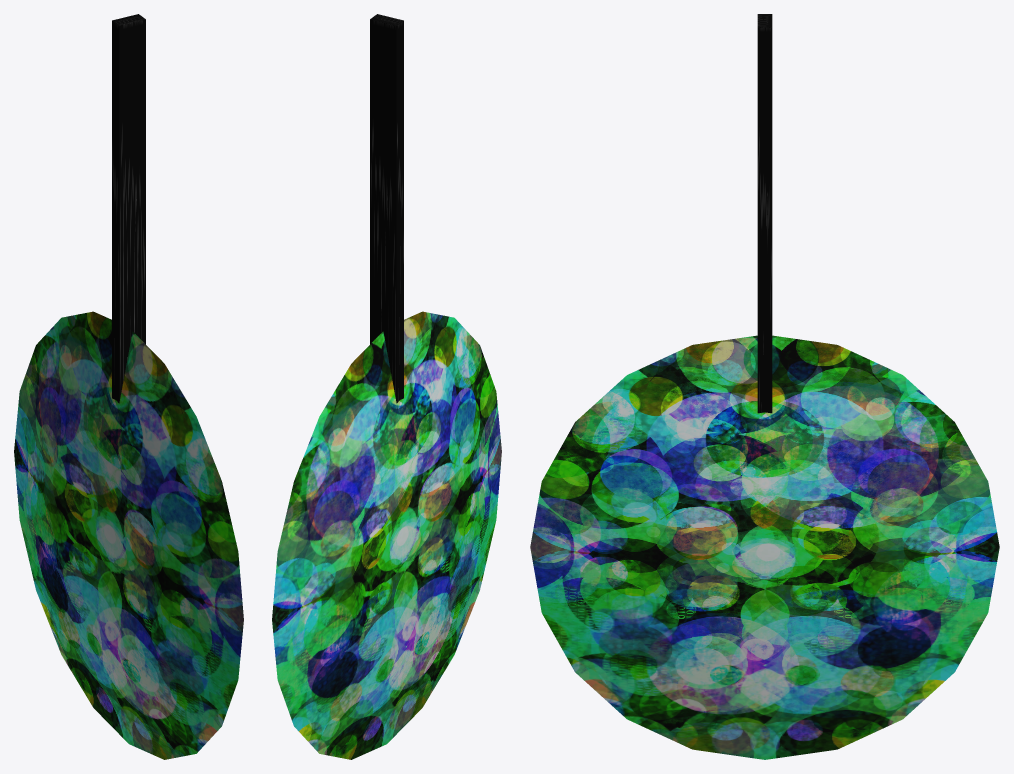
File: Huriko.fbx
3 renders of one model, left to right at view 1: azimuth 30°, elevation 25°; view 2: azimuth 150°, elevation 25°; view 3: azimuth 270°, elevation 25°, orthographic. The views are drawn at different scales.
Parts seen in each view (by area): view 1: Cylinder001, Box001; view 2: Cylinder001, Box001; view 3: Cylinder001, Box001.
Part boxes in pixels (<box>): Cylinder001: <box>14,311,243,759</box>; Box001: <box>112,14,145,403</box>; Cylinder001: <box>272,311,501,759</box>; Box001: <box>370,14,403,403</box>; Cylinder001: <box>530,335,999,759</box>; Box001: <box>757,14,772,413</box>.
Bounding box in the file's own units: 40.14 × 400 × 695.
2 materials, 2 textured.
